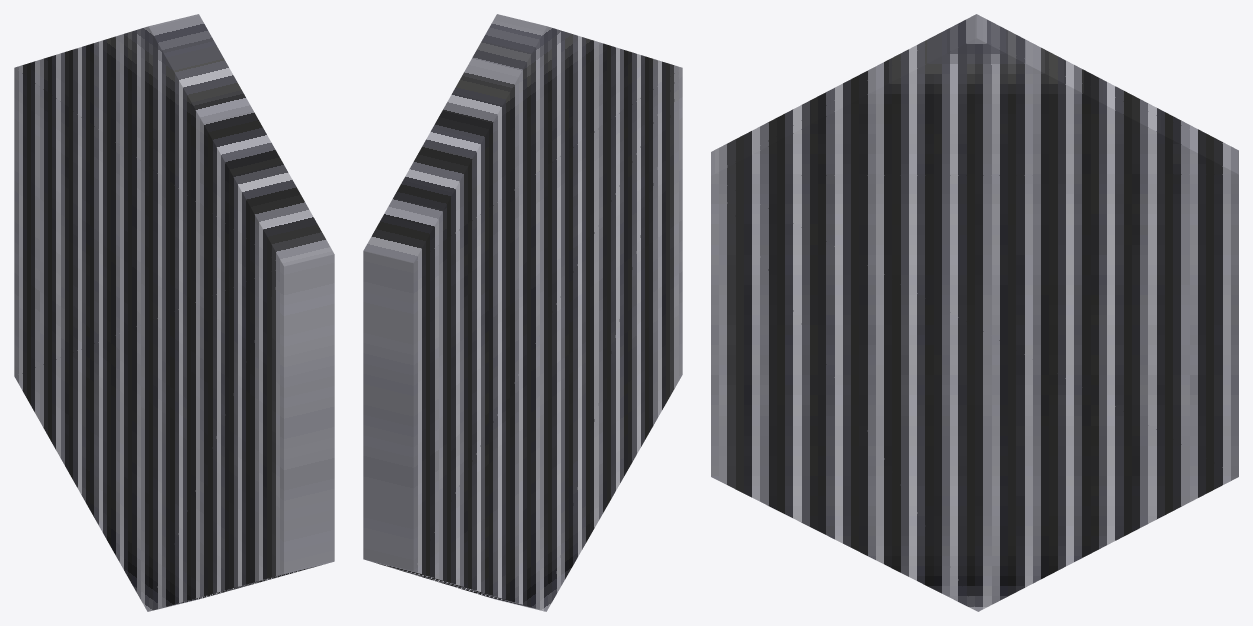
The model's file is DoorGrill2.glb.
The picture shows the model from 3 angles, left to right: view 1: azimuth 30°, elevation 25°; view 2: azimuth 150°, elevation 25°; view 3: azimuth 270°, elevation 25°; orthographic projection. The views are drawn at different scales.
Parts seen in each view (by area): view 1: DoorGrill2; view 2: DoorGrill2; view 3: DoorGrill2.
Part boxes in pixels (x1,y1,x2,y2): DoorGrill2: (14, 14, 334, 611); DoorGrill2: (363, 14, 682, 611); DoorGrill2: (711, 14, 1238, 611).
Size of the model in its own units: 64.66 by 718 by 598.
Materials: 1 (1 with a texture image).
